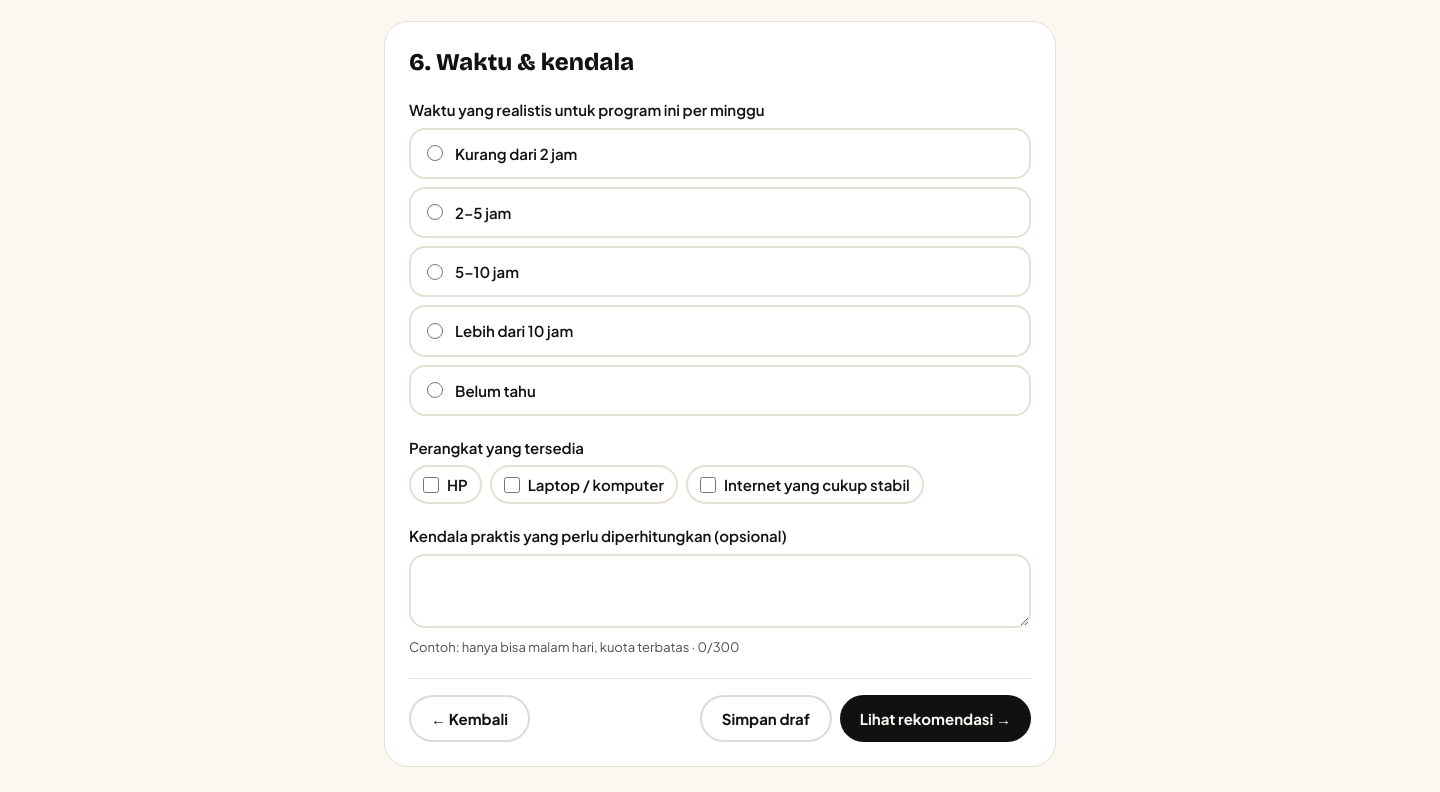
Kondisi Awal — formulir › langkah terakhir menyimpan sebagai selesai lalu menampilkan hasil
This screenshot has width=1440, height=792.
(page scrolled)
Click the button "Lihat rekomendasi →". click: (935, 718)
box: x1=840 y1=694 x2=1031 y2=742
(page scrolled)
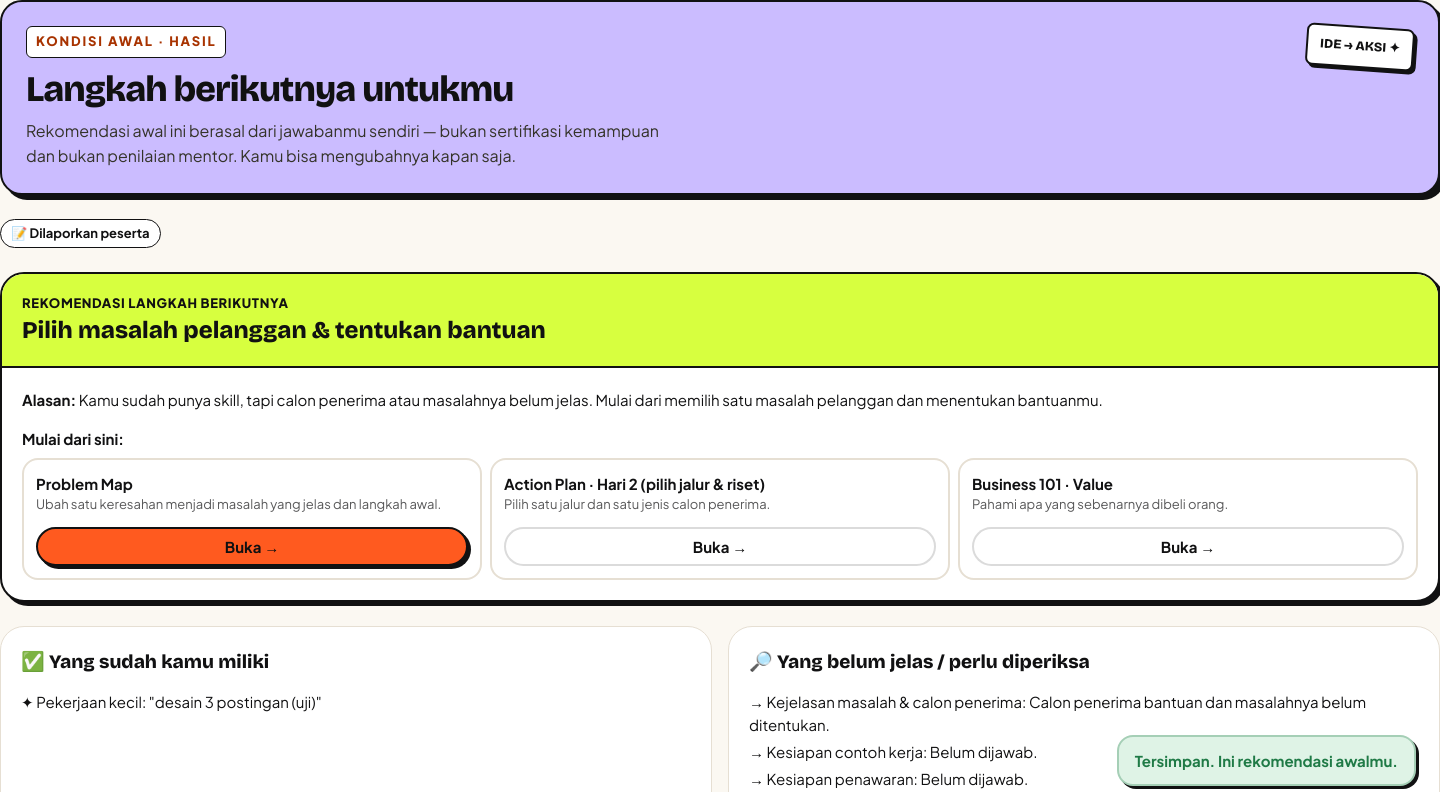
Check: the heading "Langkah berikutnya untukmu" is shown, box x1=26 y1=68 x2=514 y2=110
